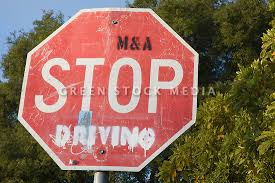Stop: (26, 5, 215, 129)
